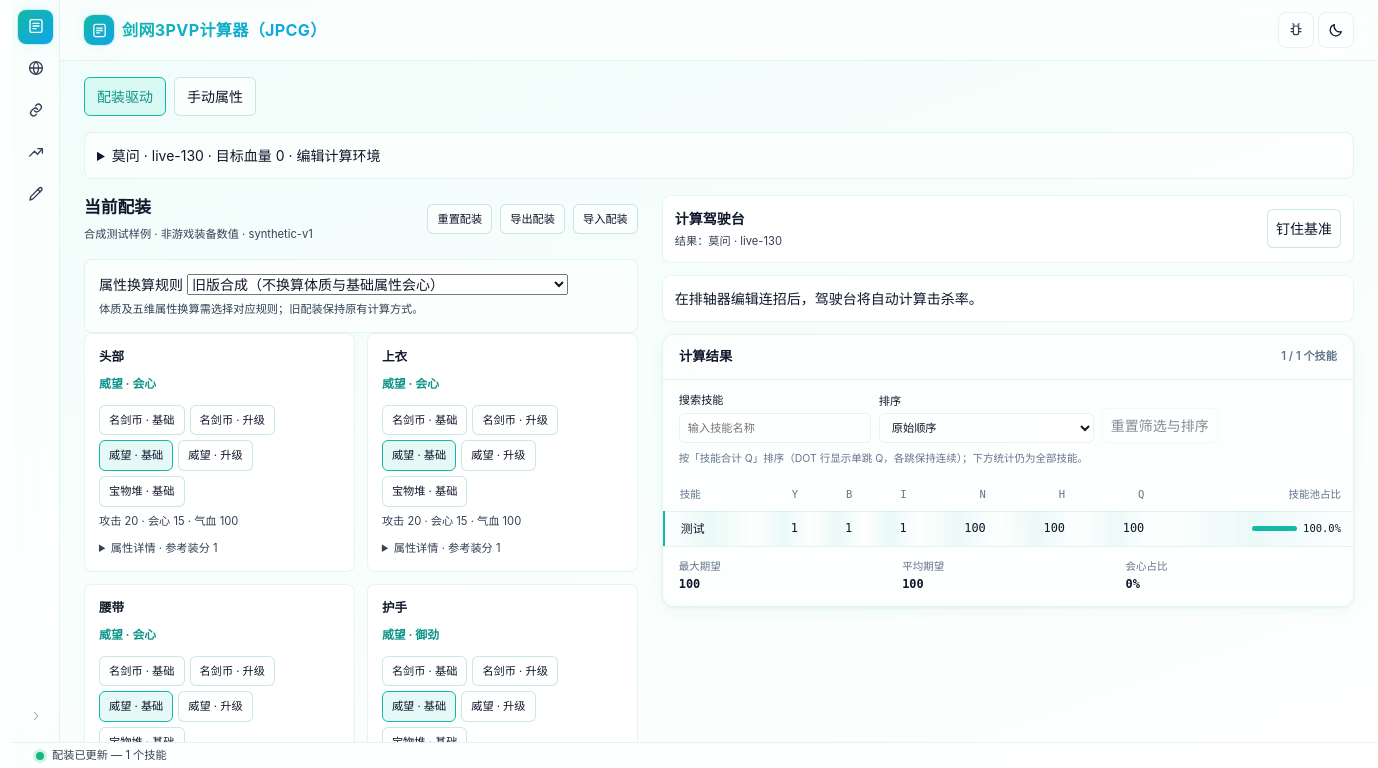
Test: 配装基准包含选择与上下文，恢复后结果不被自动重算覆盖；重启无需重复计算
The width and height of the screenshot is (1378, 768).
Click the button "钉住基准" at (1304, 229), box left=1267, top=209, right=1341, bottom=248
(page scrolled)
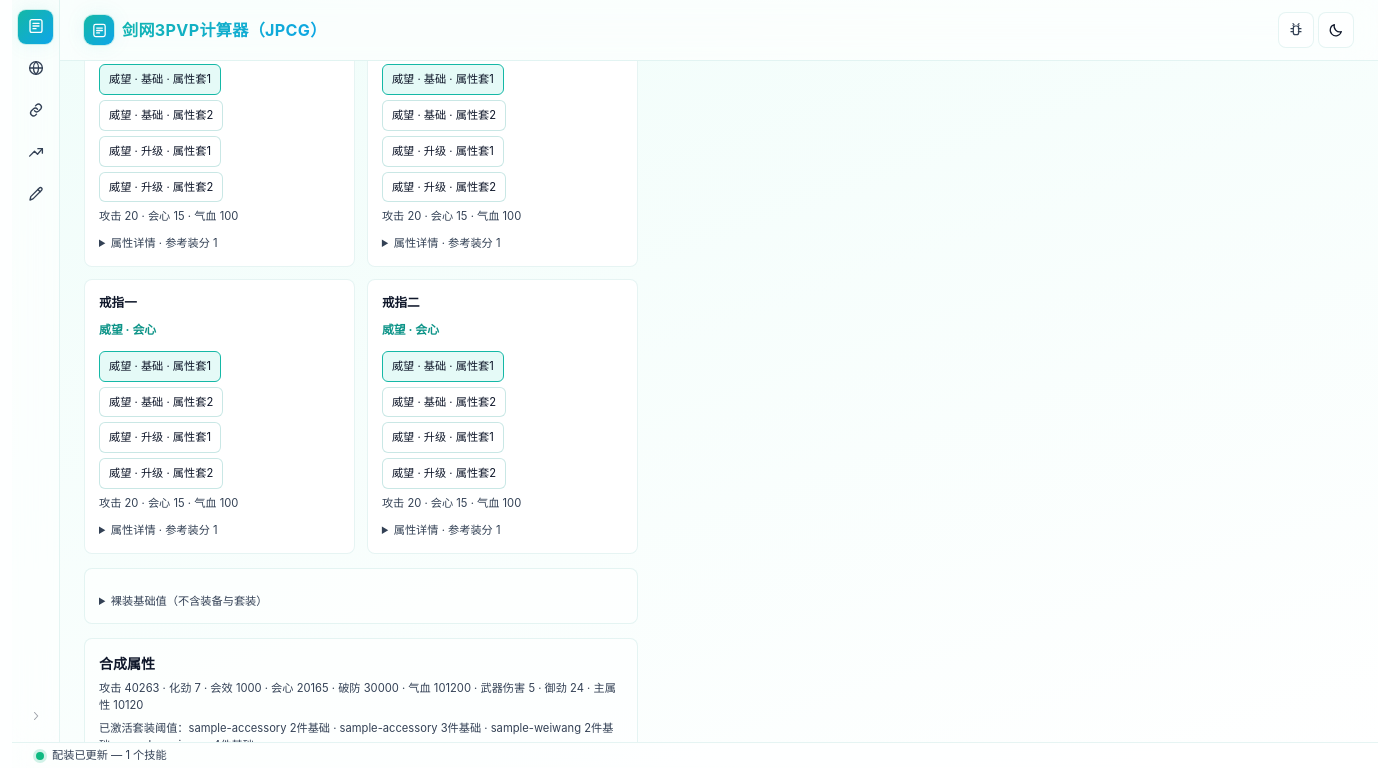
Check: the button "威望 · 基础 · 属性套2" below "戒指一" is shown
Click the button "威望 · 基础 · 属性套2" below "戒指一" at (161, 402), box left=99, top=387, right=223, bottom=417
(page scrolled)
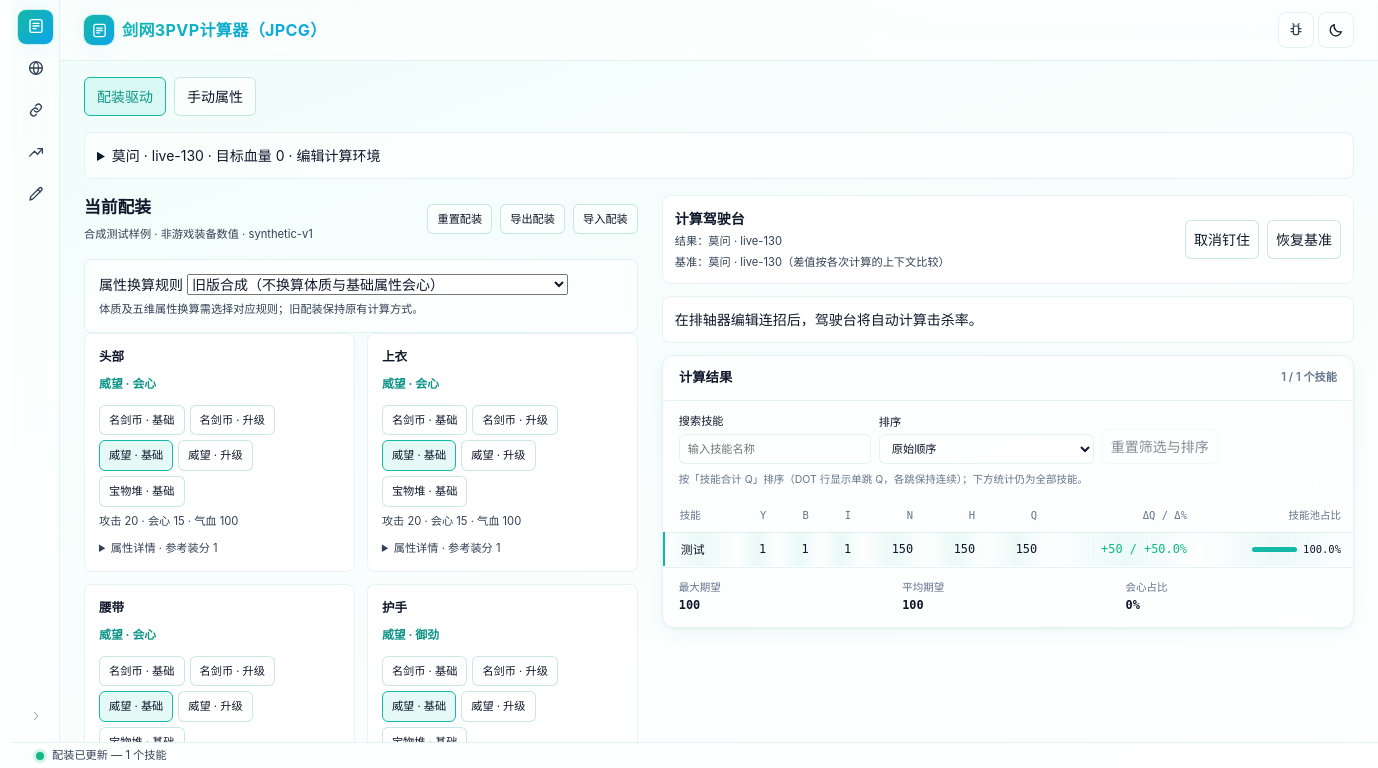
Check: the text "+50 / +50.0%" is shown, box left=1049, top=532, right=1199, bottom=566
Check: the button "恢复基准" is shown
Click the button "恢复基准" at (1304, 239), box left=1267, top=220, right=1341, bottom=259
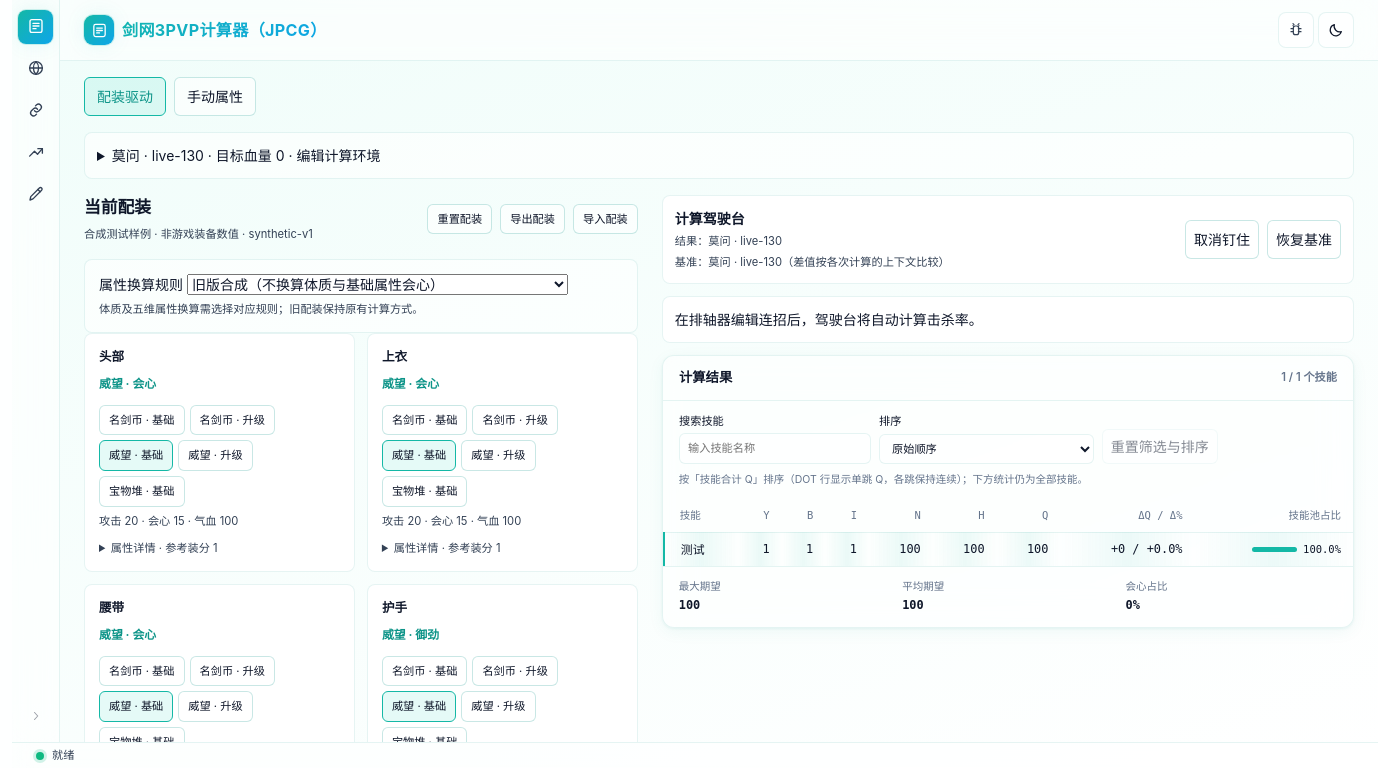
Check: the text "+0 / +0.0%" is shown, box left=1060, top=532, right=1194, bottom=566
